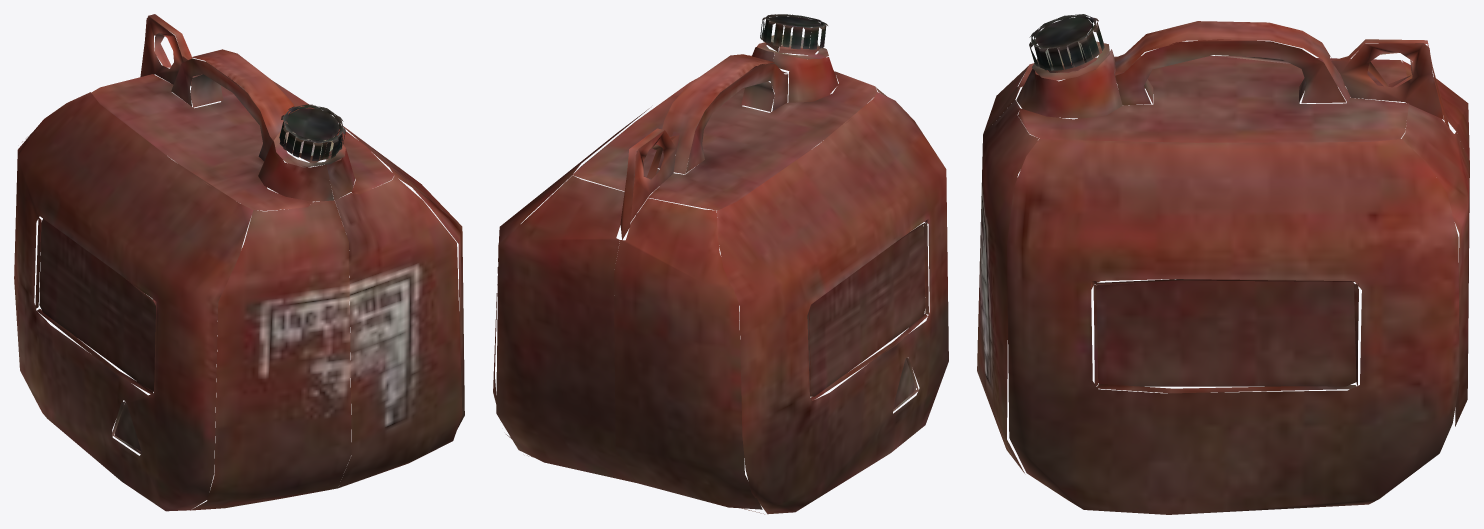
Rendered from jerrycan.glb.
The picture shows the model from 3 angles, left to right: view 1: azimuth 30°, elevation 25°; view 2: azimuth 150°, elevation 25°; view 3: azimuth 270°, elevation 25°; orthographic projection. The views are drawn at different scales.
Parts seen in each view (by area): view 1: jerrycan; view 2: jerrycan; view 3: jerrycan.
Part boxes in pixels (<box>): jerrycan: <box>14,14,464,511</box>; jerrycan: <box>493,14,948,514</box>; jerrycan: <box>977,14,1469,514</box>.
Bounding box in the file's own units: 0.268 × 0.3184 × 0.342.
Materials: 1 (1 with a texture image).
